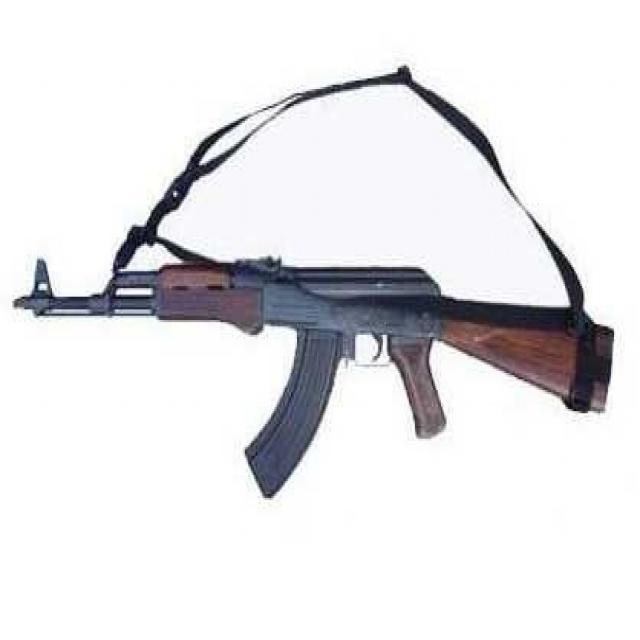weapon: (16, 238, 630, 520)
